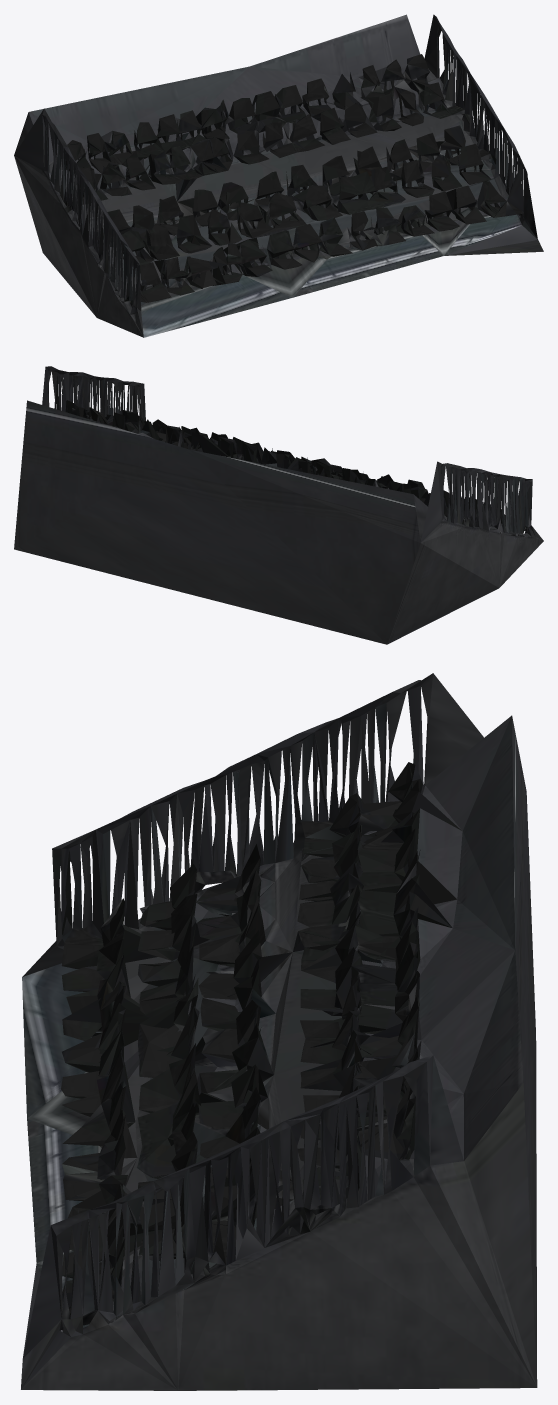
File: bleacher_metal.glb
The picture shows the model from 3 angles, top to bottom: view 1: azimuth 30°, elevation 25°; view 2: azimuth 150°, elevation 25°; view 3: azimuth 270°, elevation 25°; orthographic projection. The views are drawn at different scales.
Parts seen in each view (by area): view 1: m; view 2: m; view 3: m.
Part boxes in pixels (x1,y1,x2,y2): m: (14,14,543,337); m: (14,366,543,644); m: (21,673,537,1390).
Bounding box in the file's own units: 7.48 × 3 × 4.14.
1 material, 1 textured.
